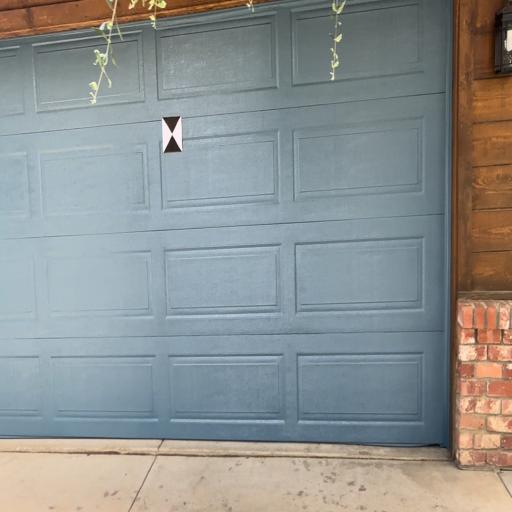target: (162, 117, 183, 151)
